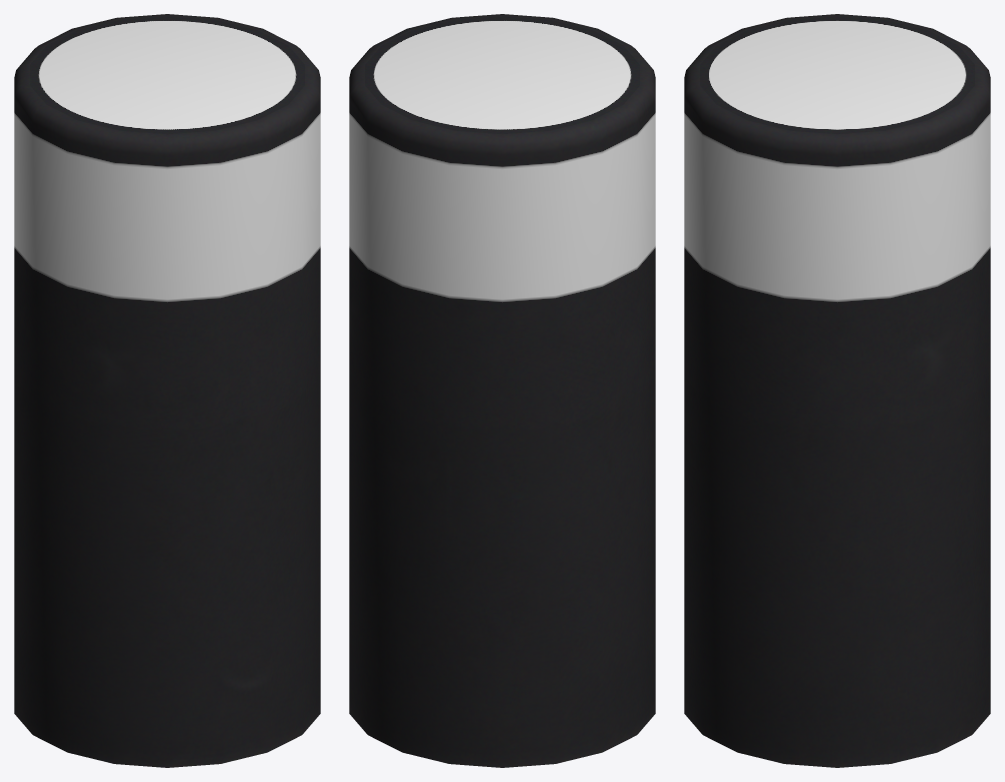
The model's file is GardenLightPost01_2.FBX.
3 views of the same model, side by side, from view 1: azimuth 30°, elevation 25°; view 2: azimuth 150°, elevation 25°; view 3: azimuth 270°, elevation 25° (orthographic).
Parts seen in each view (by area): view 1: GardenLightPost01_2; view 2: GardenLightPost01_2; view 3: GardenLightPost01_2.
Boxes of the visible parts, x1=… form: GardenLightPost01_2: x1=14, y1=14, x2=320, y2=767; GardenLightPost01_2: x1=349, y1=14, x2=655, y2=767; GardenLightPost01_2: x1=684, y1=14, x2=990, y2=767.
Size of what is drawn, in the model's own units: 0.1 by 0.2224 by 0.0985.
